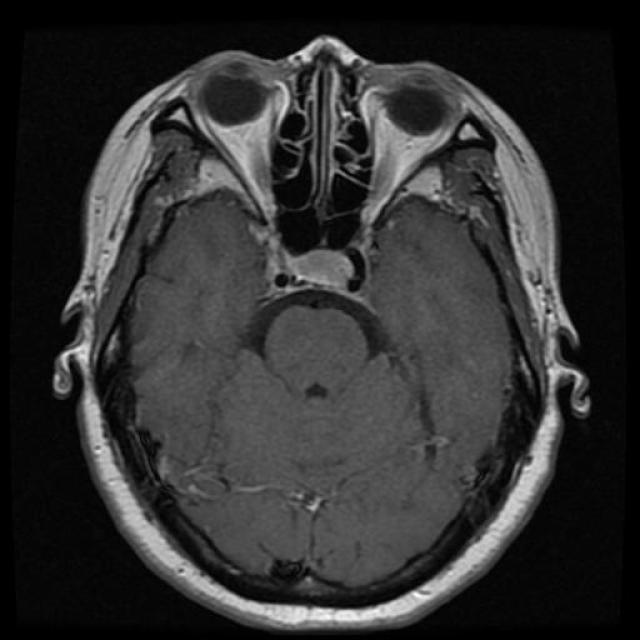pituitary: (279, 243, 376, 306)
